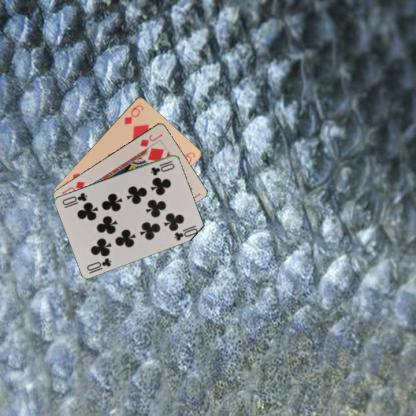10c: (148, 158, 176, 177), (84, 254, 113, 272)
6d: (121, 102, 144, 125)
Jd: (137, 131, 164, 148)
